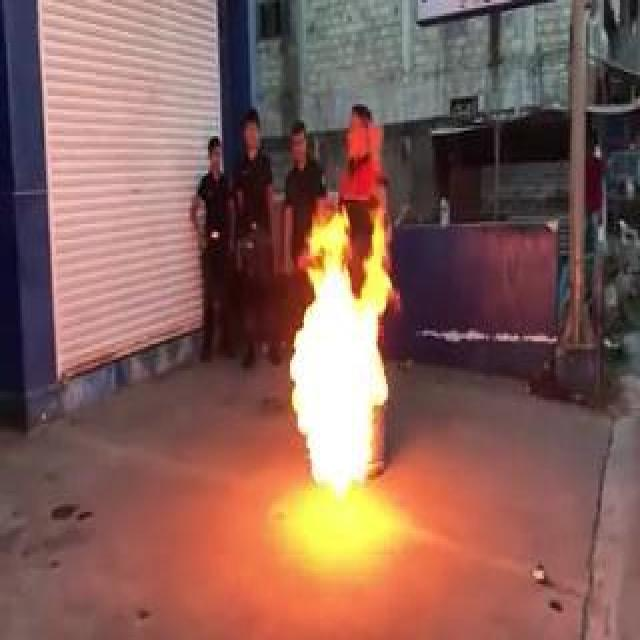Fire: (288, 185, 394, 511)
